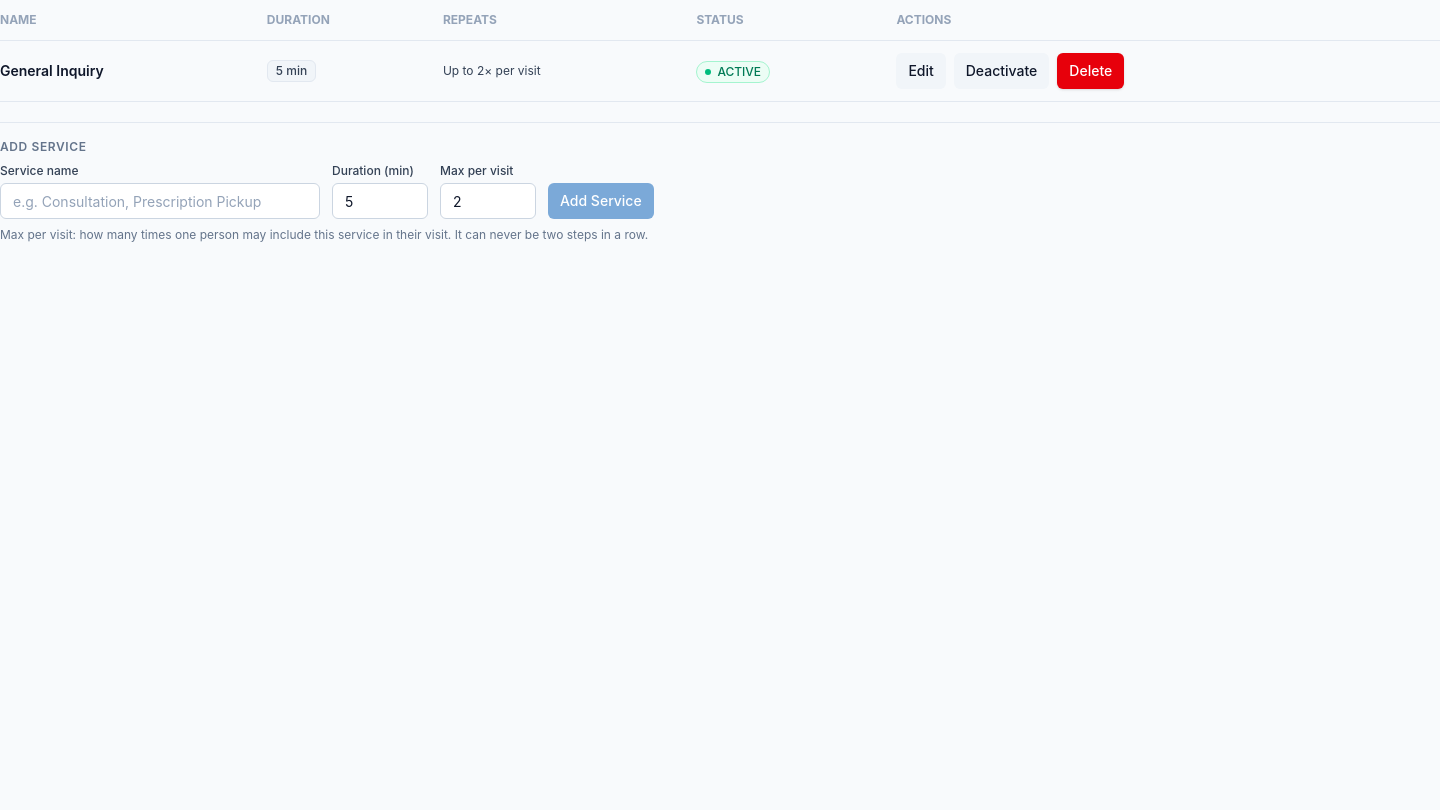
Test: ServicesManager — delete confirmation › a refused delete (the service is still in use) is shown, not swallowed
This screenshot has width=1440, height=810.
Click the button "Delete". click: [1091, 71]
box: [1057, 53, 1124, 89]
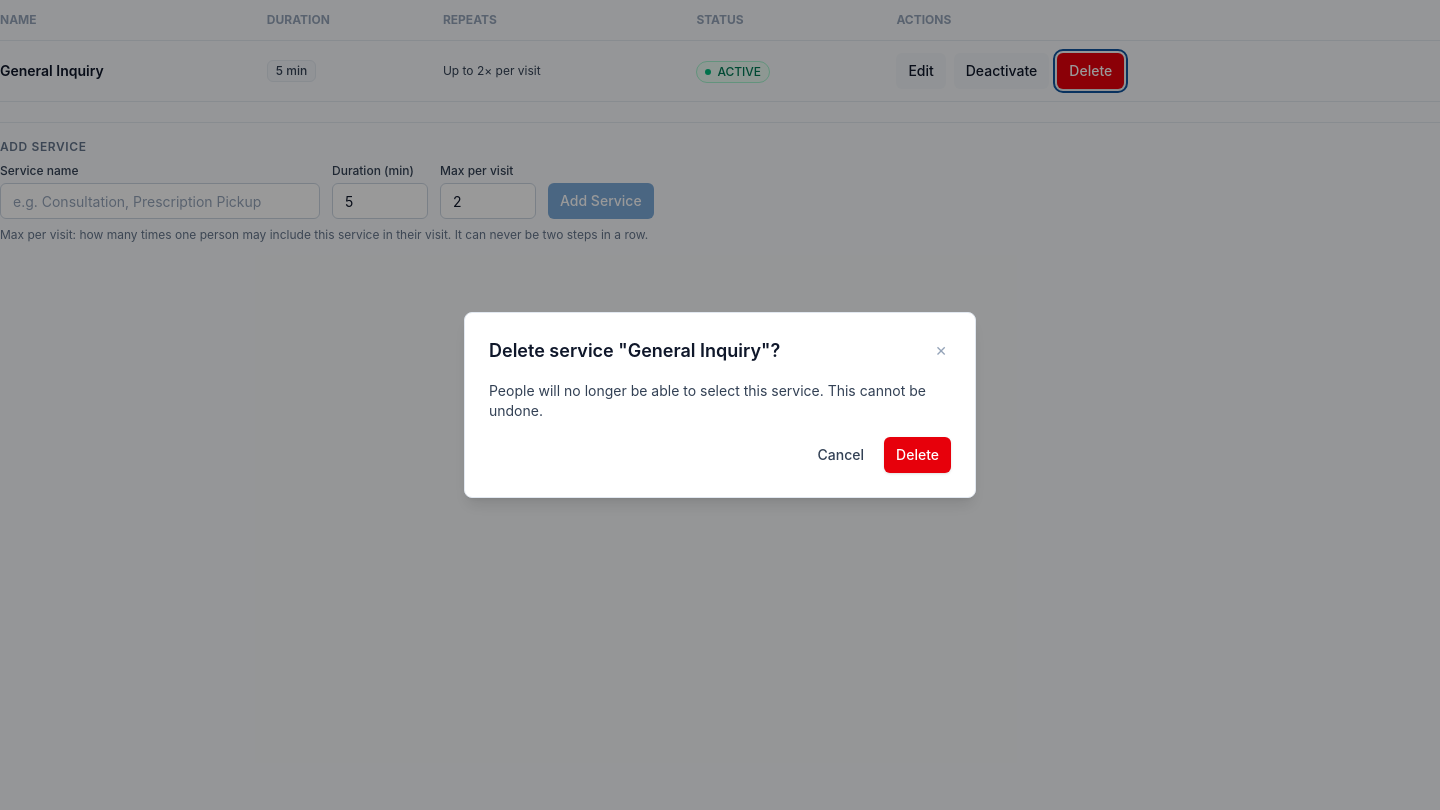
Click the button "Delete". click: [918, 455]
box: [884, 437, 951, 473]
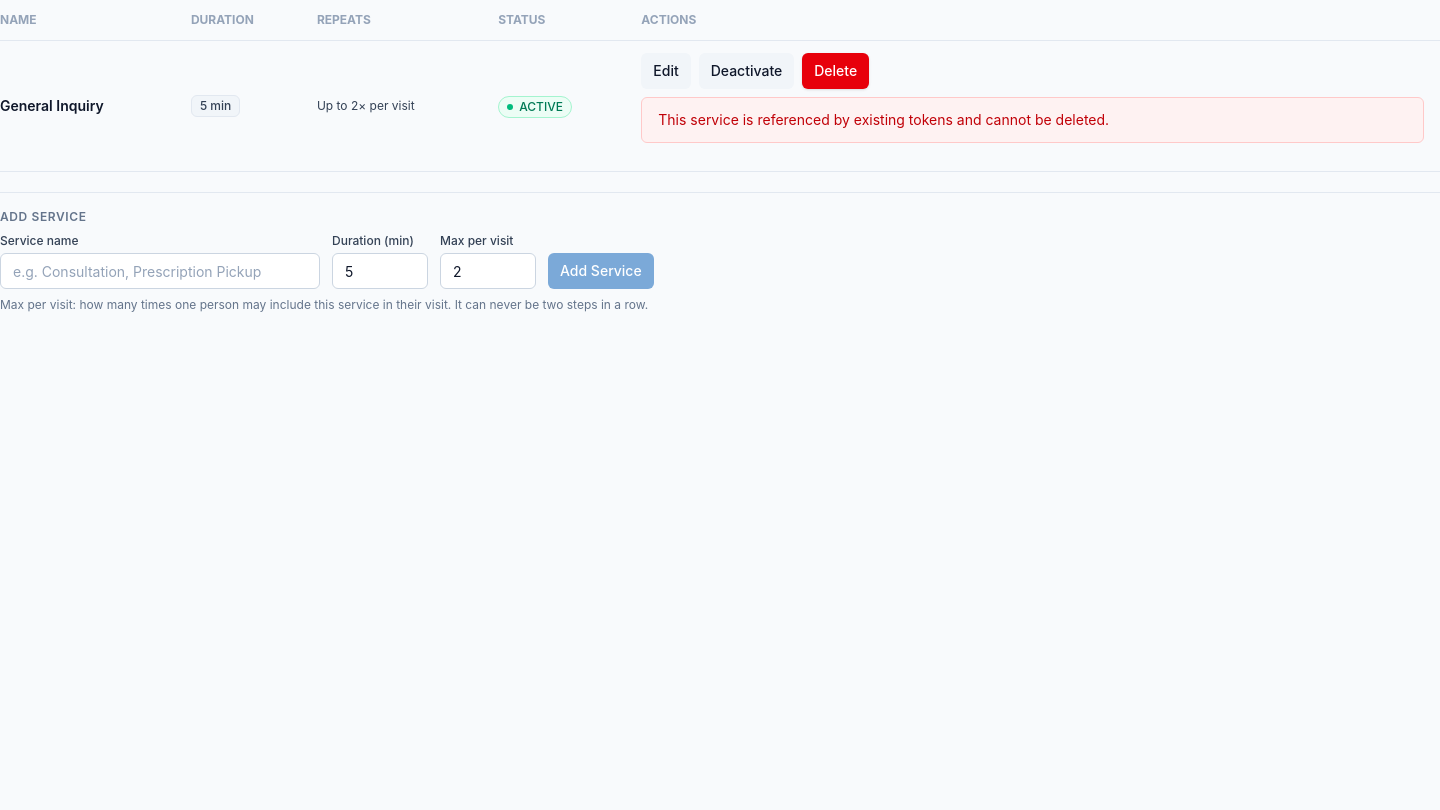
Expected: the message reads "This service is referenced by existing tokens and cannot be deleted.", [658, 111, 1109, 128]
